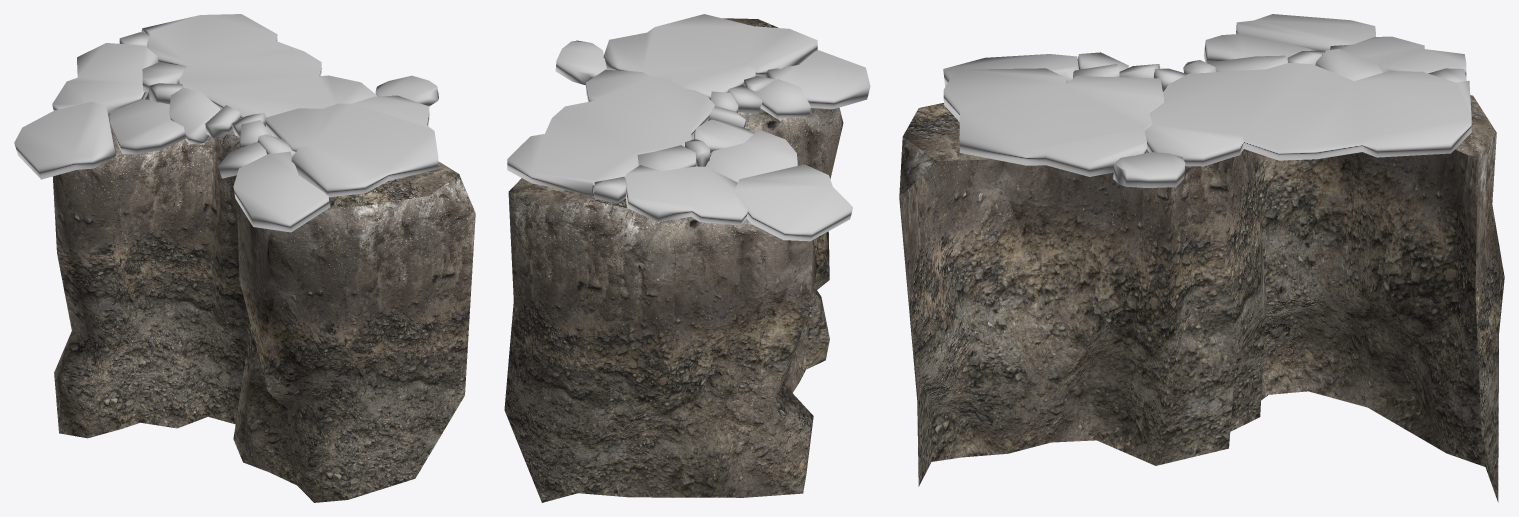
Rendered from Road_end4_LOD1.fbx.
The picture shows the model from 3 angles, left to right: view 1: azimuth 30°, elevation 25°; view 2: azimuth 150°, elevation 25°; view 3: azimuth 270°, elevation 25°; orthographic projection. The views are drawn at different scales.
Parts seen in each view (by area): view 1: polySurface382; view 2: polySurface382; view 3: polySurface382.
Part boxes in pixels (<box>): polySurface382: <box>14,14,475,502</box>; polySurface382: <box>504,14,870,502</box>; polySurface382: <box>899,14,1504,502</box>.
Size of the model in its own units: 5.51 by 5.01 by 6.77.
